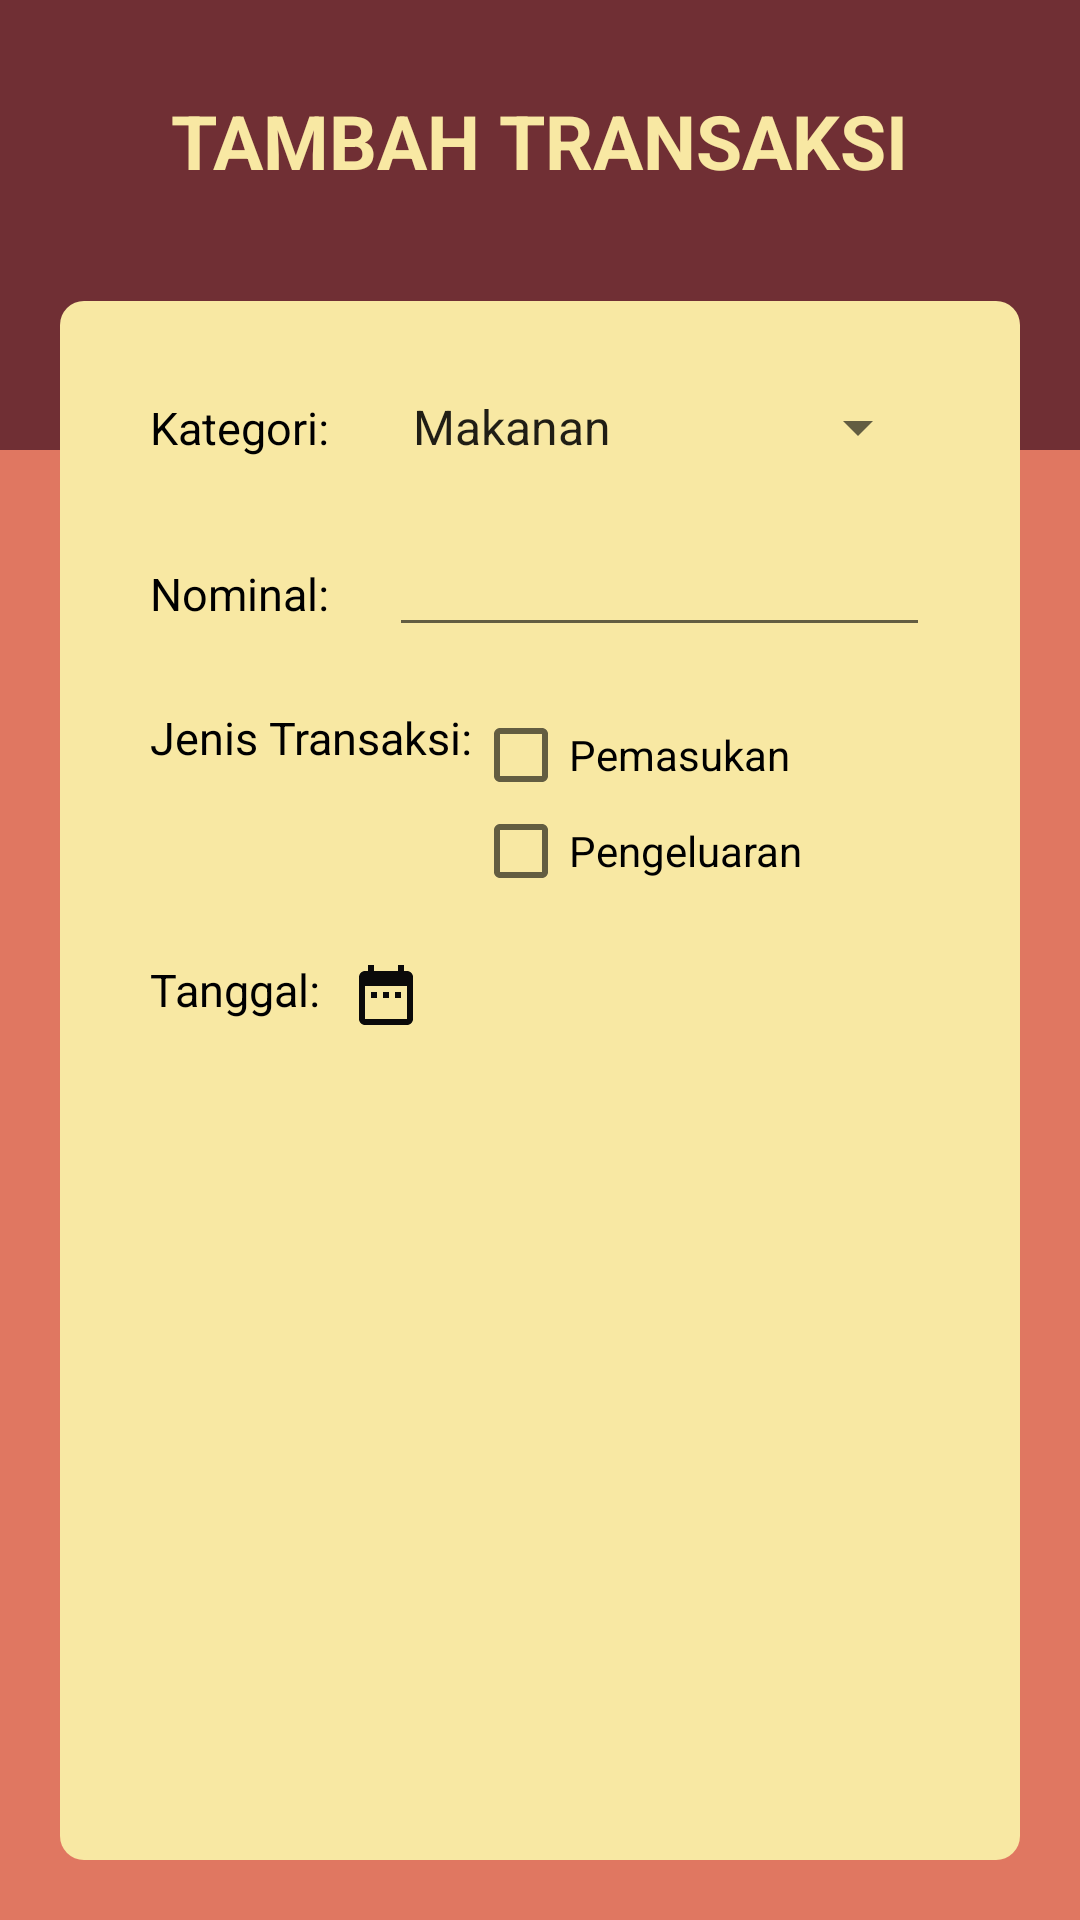

Icon click points for this 1080*1920 phone screenshot, format point (x, y):
date range: point (386, 995)
